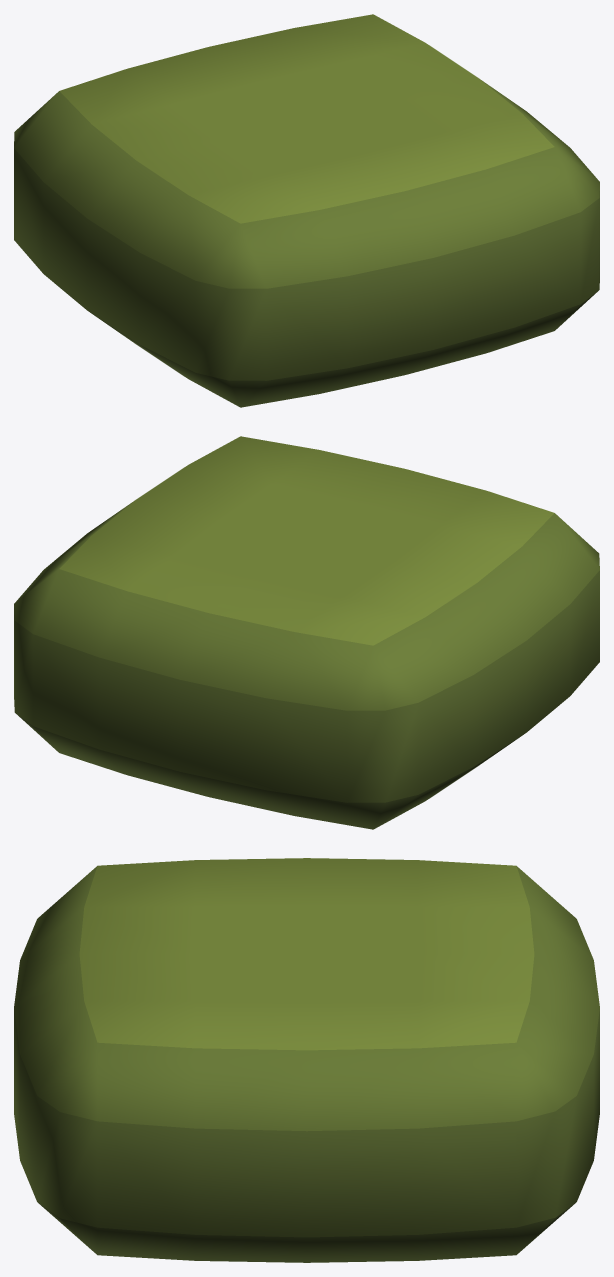
Rendered from grass_top_1x1.fbx.
The picture shows the model from 3 angles, top to bottom: view 1: azimuth 30°, elevation 25°; view 2: azimuth 150°, elevation 25°; view 3: azimuth 270°, elevation 25°; orthographic projection. The views are drawn at different scales.
Visible parts, largest first — view 1: grass_top_1x1; view 2: grass_top_1x1; view 3: grass_top_1x1.
Boxes of the visible parts, x1=… form: grass_top_1x1: x1=14, y1=14, x2=599, y2=407; grass_top_1x1: x1=14, y1=436, x2=599, y2=829; grass_top_1x1: x1=14, y1=858, x2=599, y2=1262.
Size of the model in its own units: 137 by 55 by 137.
Materials: 1 (1 with a texture image).
